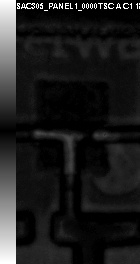led: (35, 81, 109, 172)
